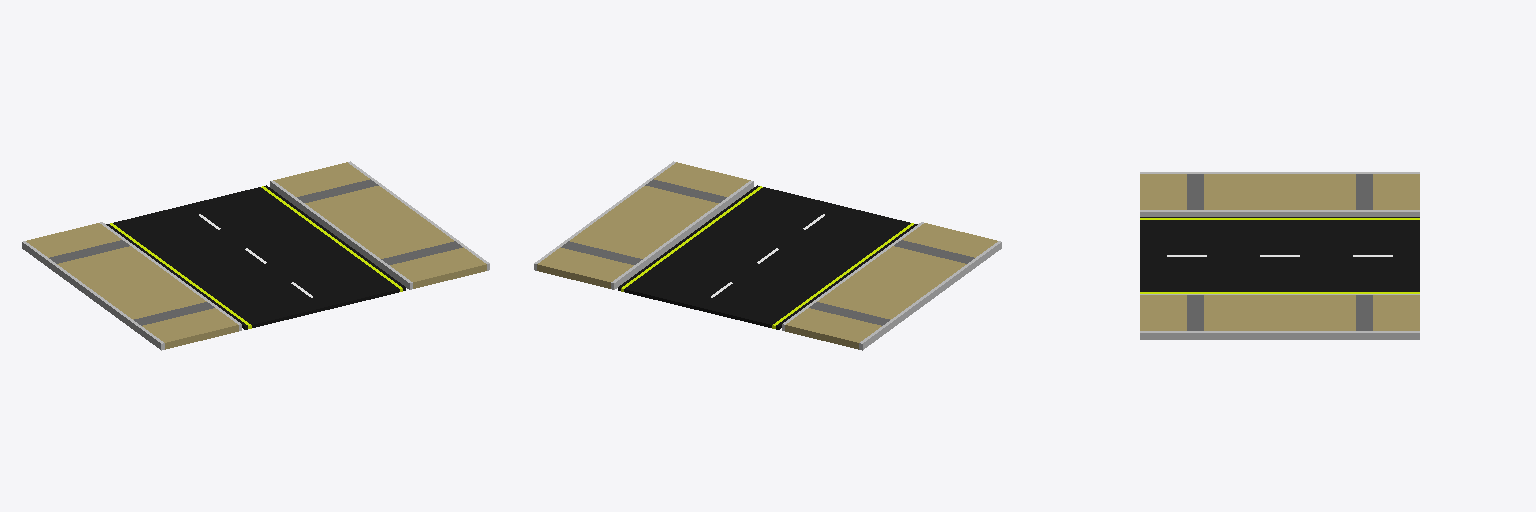
The picture shows the model from 3 angles: view 1: azimuth 30°, elevation 25°; view 2: azimuth 150°, elevation 25°; view 3: azimuth 270°, elevation 25°; orthographic projection.
Visible parts, largest first — view 1: object 1; view 2: object 1; view 3: object 1.
Boxes of the visible parts, <box> form: object 1: <box>22,161,489,350</box>; object 1: <box>534,161,1001,350</box>; object 1: <box>1140,172,1419,339</box>.
Size of the model in its own units: 20.4 by 0.4 by 15.
Materials: 1 (1 with a texture image).